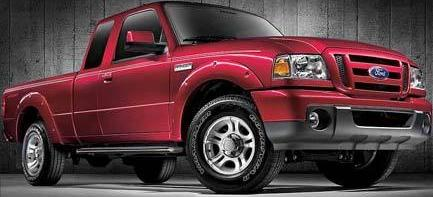front_view: (264, 51, 433, 161)
headlight: (267, 54, 348, 95)
side_glass: (82, 18, 176, 66)
